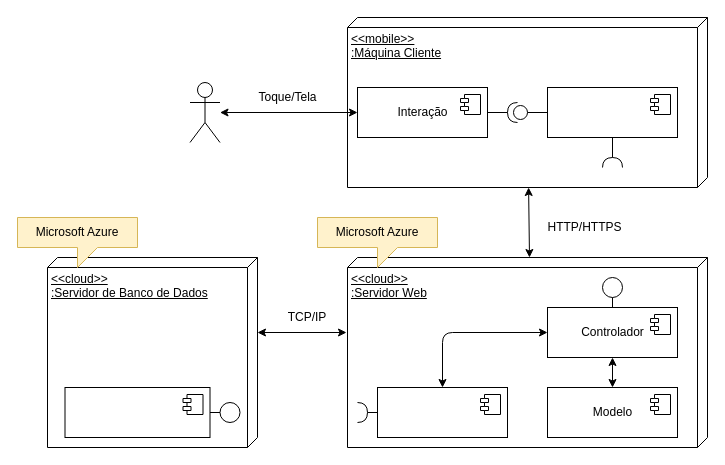
Image size: 725x465. Some labels were removed from this diagram. The shapes that lost their labels are listed below. From the top down, each one's centre as x and y in pixels, then its label:
point (204, 112): Usuário
point (612, 112): Conexão API REST
point (137, 412): SQL Database
point (442, 412): Acesso de Dados
